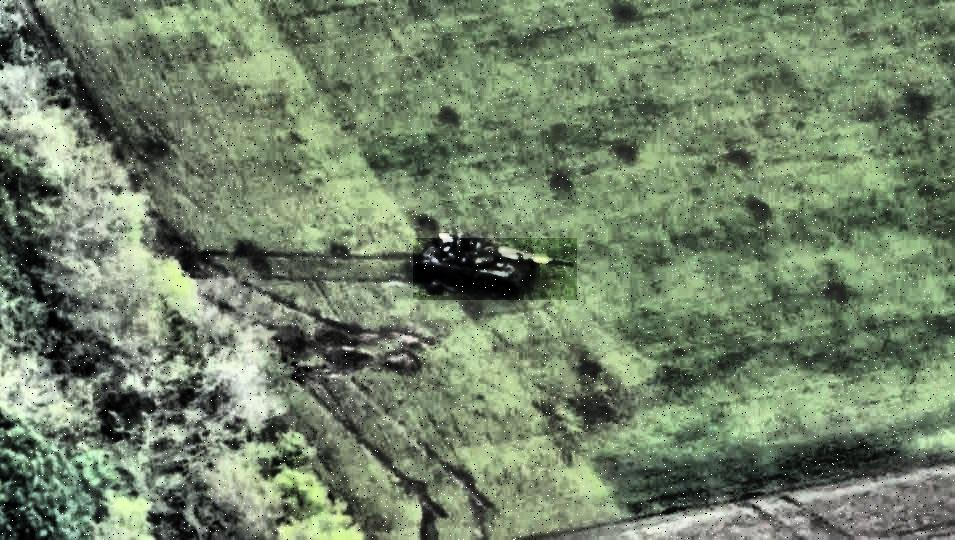military-vehicle: (414, 238, 578, 300)
